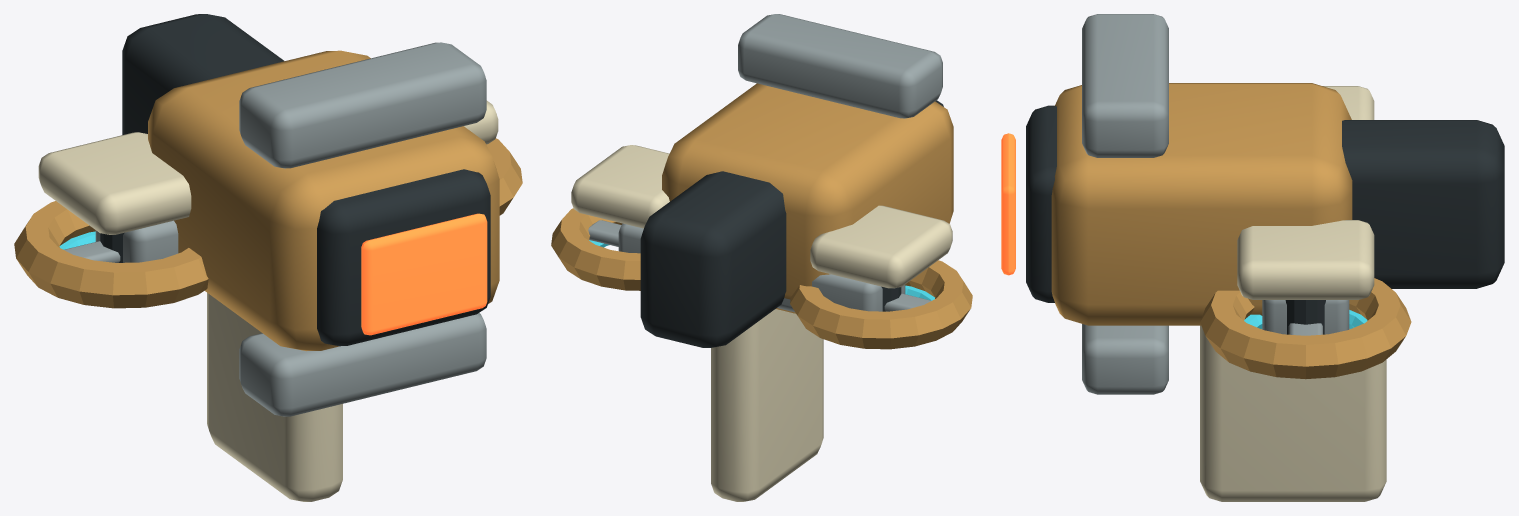
File: build104-interceptor.glb
The picture shows the model from 3 angles, left to right: view 1: azimuth 30°, elevation 25°; view 2: azimuth 150°, elevation 25°; view 3: azimuth 270°, elevation 25°; orthographic projection. The views are drawn at different scales.
Visible parts, largest first — view 1: Assembly_Ceramic graphite.001, Assembly_Service enamel.001, Assembly_Recessed induction hardware.001, ShutterTop, ShutterBottom, Optic, Assembly_Exposed machined edges.001, VaneLeft; view 2: Assembly_Ceramic graphite.001, Assembly_Service enamel.001, Assembly_Recessed induction hardware.001, ShutterTop, Assembly_Exposed machined edges.001, VaneRight, VaneLeft; view 3: Assembly_Ceramic graphite.001, Assembly_Service enamel.001, Assembly_Recessed induction hardware.001, ShutterTop, ShutterBottom, Optic, Assembly_Exposed machined edges.001.
Part boxes in pixels (bbox=[...]): Assembly_Ceramic graphite.001: bbox=[14, 50, 522, 351]; Assembly_Service enamel.001: bbox=[38, 100, 498, 501]; Assembly_Recessed induction hardware.001: bbox=[100, 14, 490, 346]; ShutterTop: bbox=[239, 42, 486, 168]; ShutterBottom: bbox=[239, 313, 486, 416]; Optic: bbox=[361, 213, 487, 335]; Assembly_Exposed machined edges.001: bbox=[95, 220, 178, 262]; VaneLeft: bbox=[64, 241, 120, 262]; Assembly_Ceramic graphite.001: bbox=[551, 83, 972, 349]; Assembly_Service enamel.001: bbox=[571, 145, 952, 501]; Assembly_Recessed induction hardware.001: bbox=[640, 100, 943, 347]; ShutterTop: bbox=[738, 14, 942, 118]; Assembly_Exposed machined edges.001: bbox=[618, 223, 905, 312]; VaneRight: bbox=[588, 220, 621, 246]; VaneLeft: bbox=[884, 293, 931, 311]; Assembly_Ceramic graphite.001: bbox=[1051, 83, 1411, 379]; Assembly_Service enamel.001: bbox=[1200, 86, 1386, 501]; Assembly_Recessed induction hardware.001: bbox=[1026, 105, 1504, 334]; ShutterTop: bbox=[1082, 14, 1168, 157]; ShutterBottom: bbox=[1082, 324, 1168, 394]; Optic: bbox=[1001, 133, 1015, 275]; Assembly_Exposed machined edges.001: bbox=[1262, 300, 1349, 334].
Bounding box in the file's own units: 0.85 × 0.78 × 0.81.
